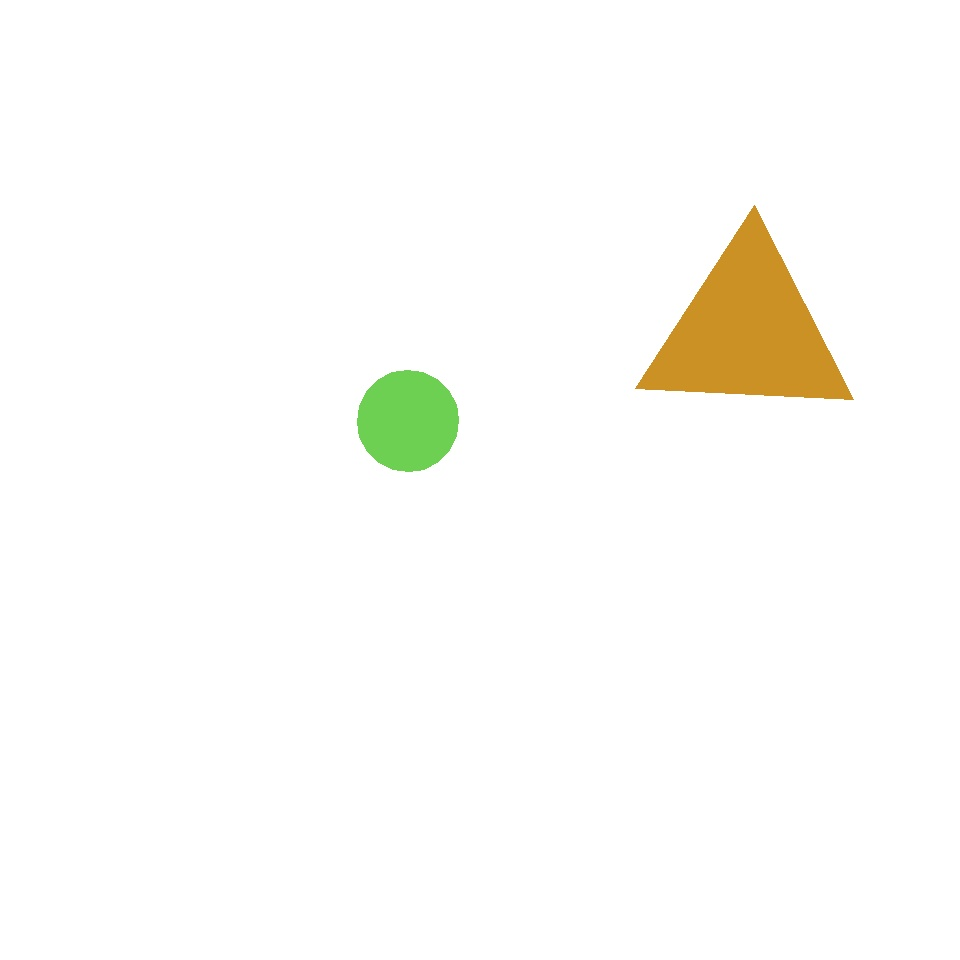circle: (639, 234, 857, 428), (696, 128, 788, 224)
square: (176, 514, 437, 776), (168, 221, 374, 428)
triangle: (358, 370, 458, 472)
